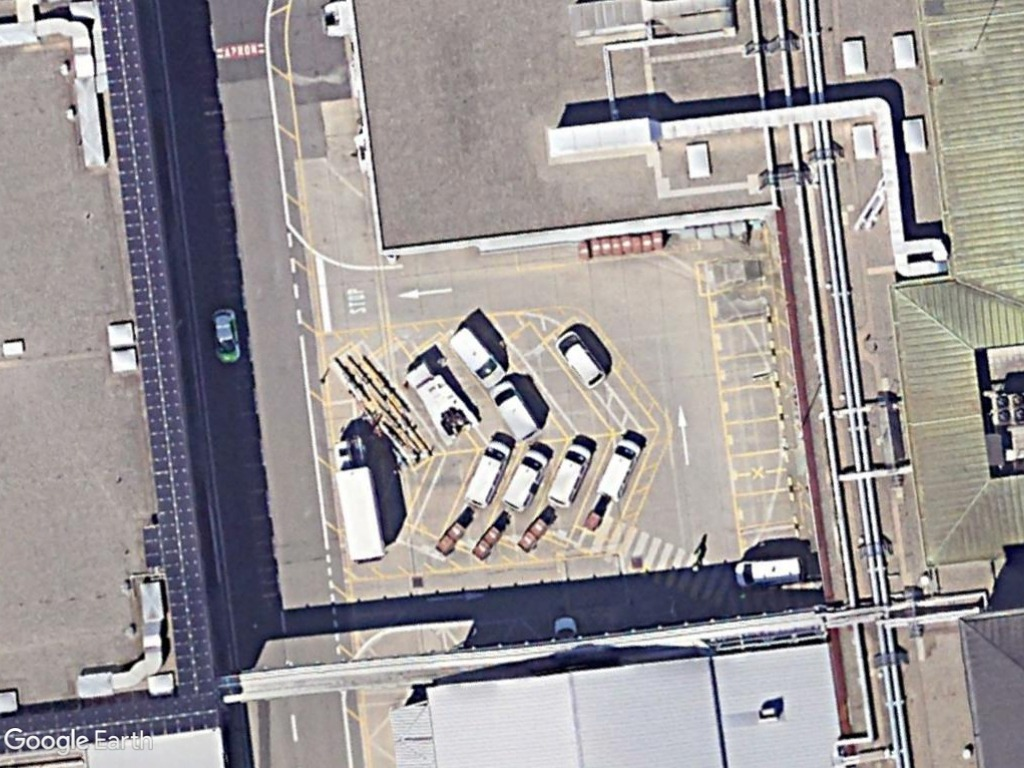car: (207, 305, 244, 368)
pushback: (403, 356, 480, 447)
truck: (331, 435, 389, 566)
van: (446, 324, 506, 391), (461, 438, 512, 509), (594, 433, 645, 501), (552, 327, 607, 390), (543, 439, 593, 508), (484, 381, 540, 440), (496, 445, 545, 510), (732, 555, 806, 593)
